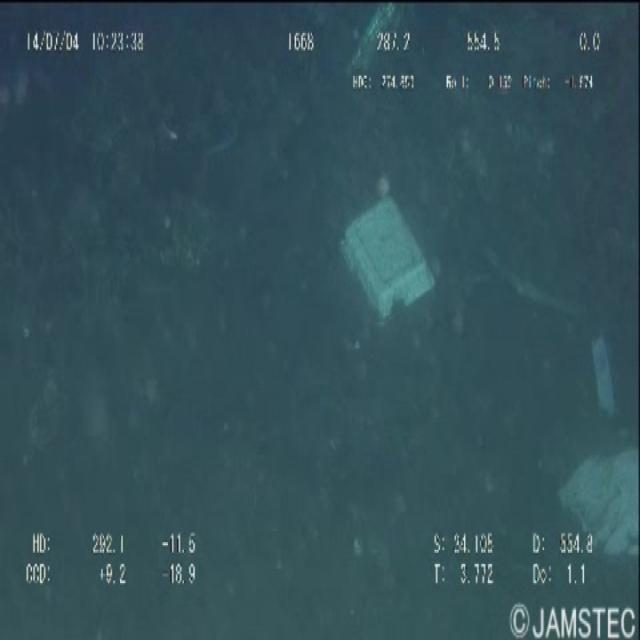Cutlery: (343, 196, 439, 322)
Glass: (344, 0, 420, 99)
Litter: (585, 331, 625, 416)
Plastic: (555, 426, 640, 559)
